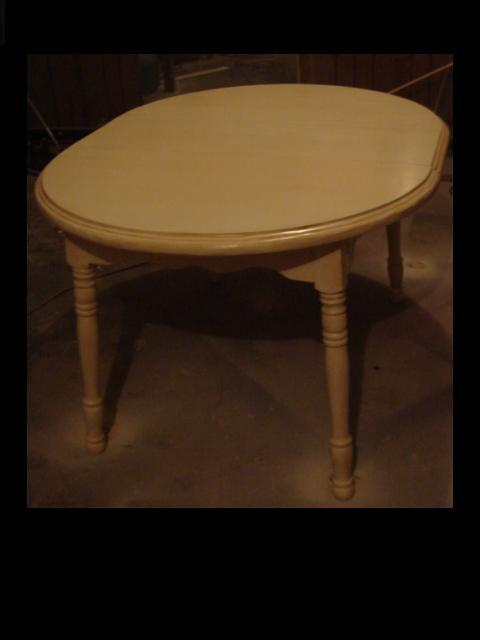table: (34, 82, 451, 501)
